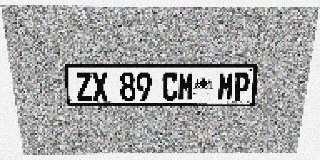8: (120, 72, 136, 101)
9: (136, 72, 151, 101)
C: (162, 72, 178, 101)
M: (217, 72, 234, 101), (178, 72, 194, 101)
P: (233, 72, 250, 101)
X: (91, 72, 109, 101)
Z: (75, 72, 93, 101)
